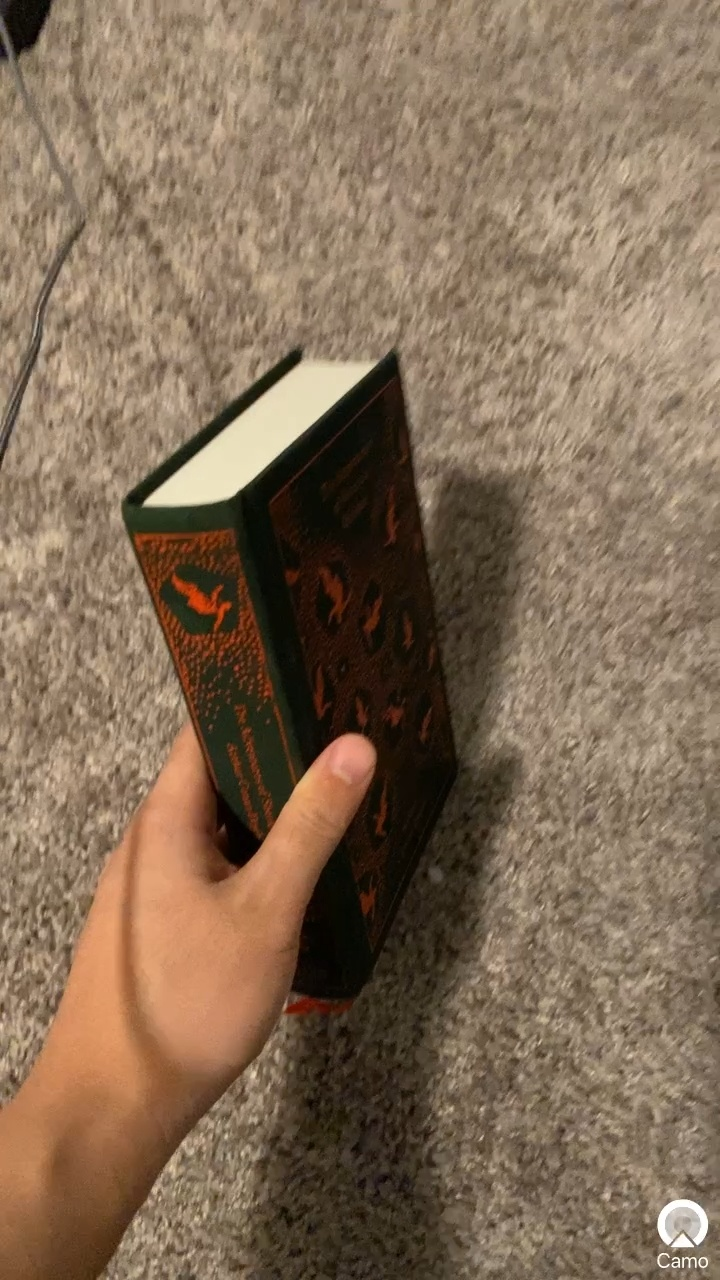Book: (119, 330, 519, 1035)
